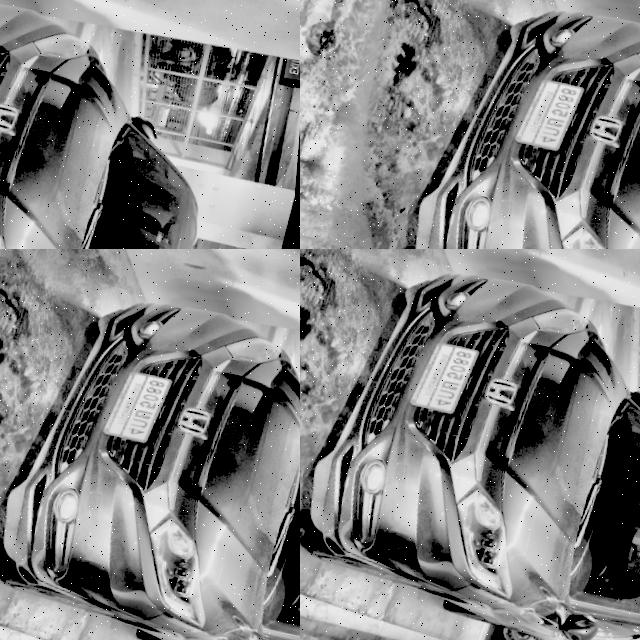license-plate: (411, 331, 486, 415), (619, 48, 640, 173)
